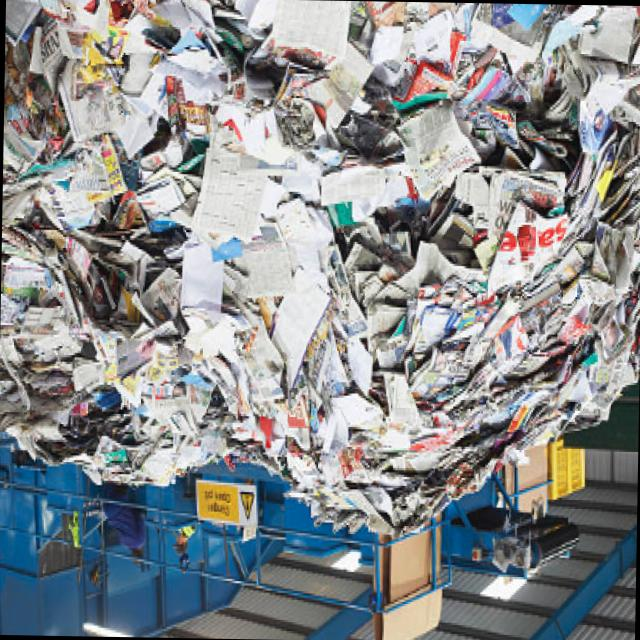KertasBekas: (0, 0, 640, 543)
